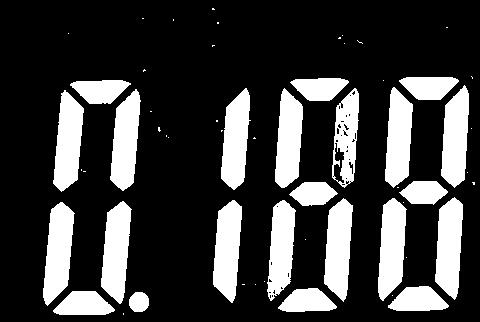0: (40, 78, 142, 317)
1: (212, 85, 253, 304)
8: (267, 77, 362, 313), (378, 74, 470, 312)
dot: (128, 290, 149, 313)
